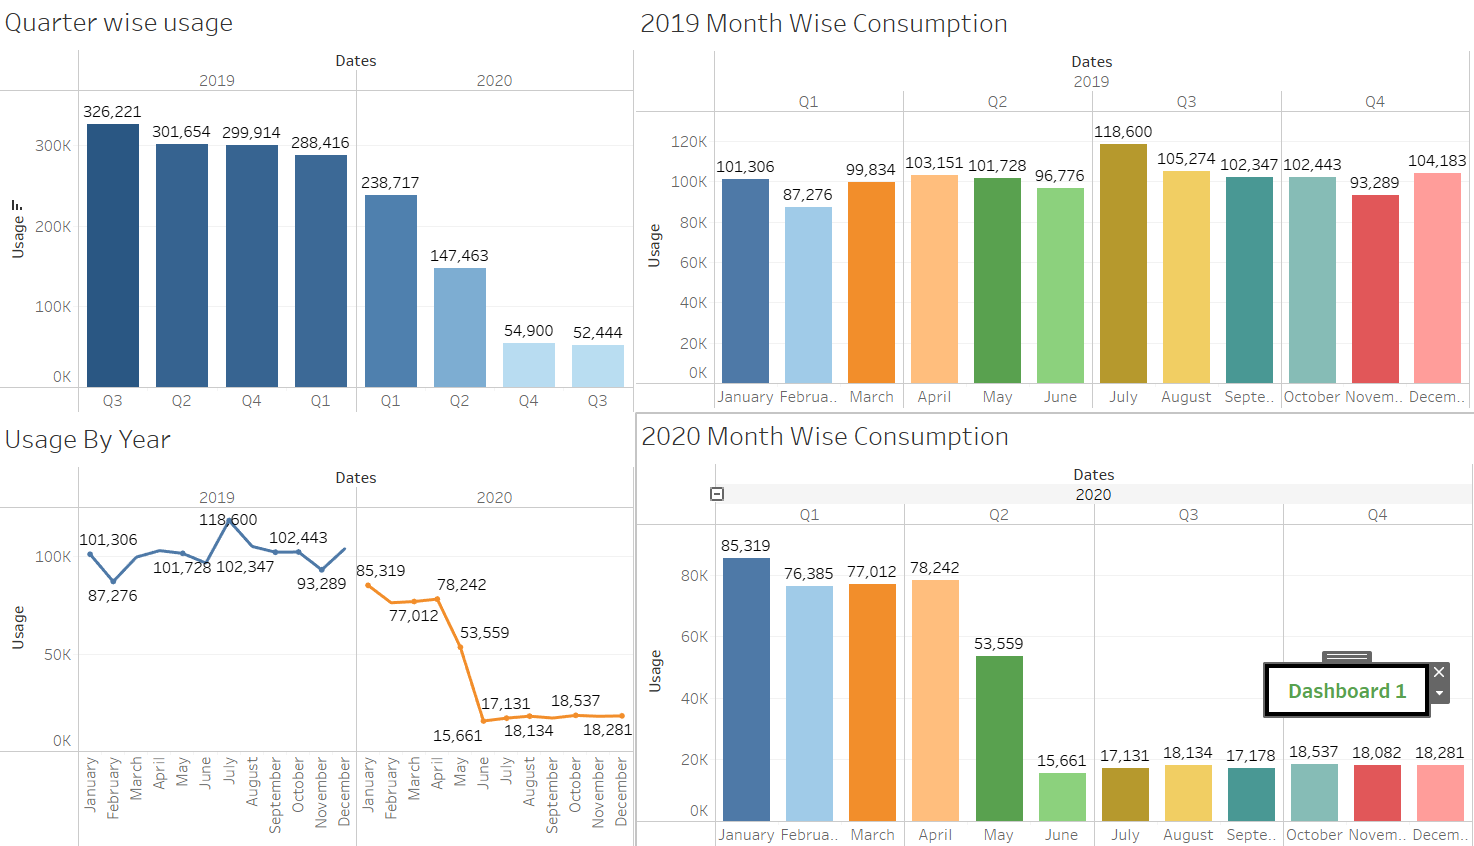

This screenshot's page, from the dashboard's own definition file:
{"tool":"tableau","page":{"name":"Dashboard 3","canvas":[1000,1000],"units":"permille","ordinal":2},"visuals":[{"type":"worksheet","title":"Quarter wise usage","mark":"Bar","rows":["Usage"],"cols":["Dates","Dates"],"box":[0.6,1.2,381.9,485.3]},{"type":"worksheet","title":"2019 Month Wise Consumption","mark":"Bar","rows":["Usage"],"cols":["Dates","Dates","Dates"],"box":[383.7,2.4,502.4,479.4]},{"type":"legend","title":"Quarter wise usage","param":"[federated.0f68l961e6sr3f194c8j3160mdyu].[sum:Usage:qk]","box":[898.6,9.4,96.6,85.8]},{"type":"legend","title":"Usage By Year","param":"[federated.0f68l961e6sr3f194c8j3160mdyu].[yr:Dates:ok]","box":[898.6,95.2,96.6,84.6]},{"type":"legend","title":"2019 Month Wise Consumption","param":"[federated.0f68l961e6sr3f194c8j3160mdyu].[mn:Dates:ok]","box":[898.6,179.8,96.6,331.4]},{"type":"worksheet","title":"2020 Month Wise Consumption","mark":"Bar","rows":["Usage"],"cols":["Dates","Dates","Dates"],"box":[384.3,487.7,503.6,508.8]},{"type":"worksheet","title":"Usage By Year","mark":"Automatic","rows":["Usage"],"cols":["Dates","Dates"],"box":[0.6,491.2,381.9,511.2]},{"type":"dashboard-object","box":[762.1,781.4,98.8,61.1]}]}

Visuals, with their boxes on the dashboard's canvas, which has no fixed pixel size, in thousandths of its width and height (x1, y1, x2, y2). These are canvas units, not pixel positions in the 1474x846 screenshot, which may show the page scaled, cropped or inside an application window:
"Quarter wise usage" worksheet (Bar marks): detection(1, 1, 382, 486)
"2019 Month Wise Consumption" worksheet (Bar marks): detection(384, 2, 886, 482)
"Quarter wise usage" legend: detection(899, 9, 995, 95)
"Usage By Year" legend: detection(899, 95, 995, 180)
"2019 Month Wise Consumption" legend: detection(899, 180, 995, 511)
"2020 Month Wise Consumption" worksheet (Bar marks): detection(384, 488, 888, 996)
"Usage By Year" worksheet: detection(1, 491, 382, 1002)
dashboard-object: detection(762, 781, 861, 842)
